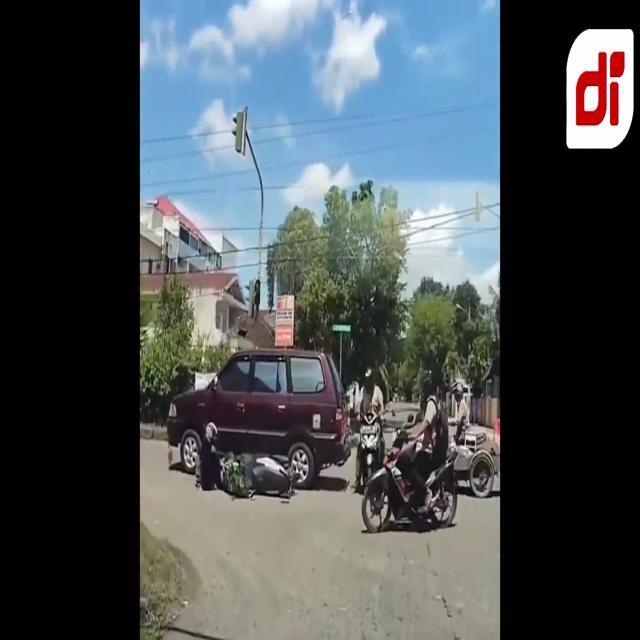multiple_accident: (153, 309, 350, 518), (182, 439, 314, 519)
normal: (350, 382, 498, 541)
